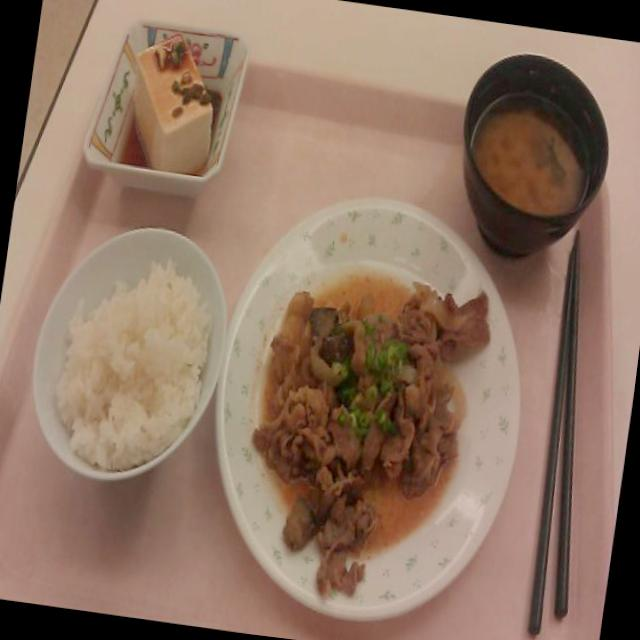Rice: (29, 235, 226, 487)
